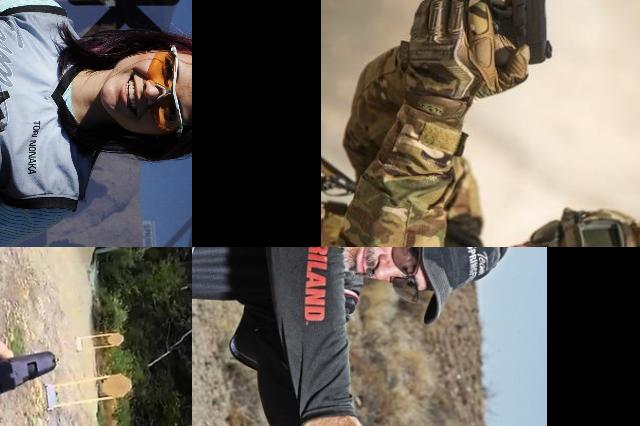handgun: (0, 0, 56, 149), (0, 346, 123, 411), (473, 0, 552, 69)
